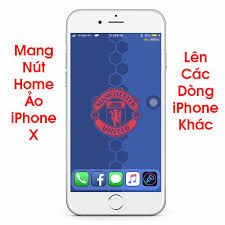iphone: (64, 7, 166, 216)
iphone10: (64, 8, 166, 217)
